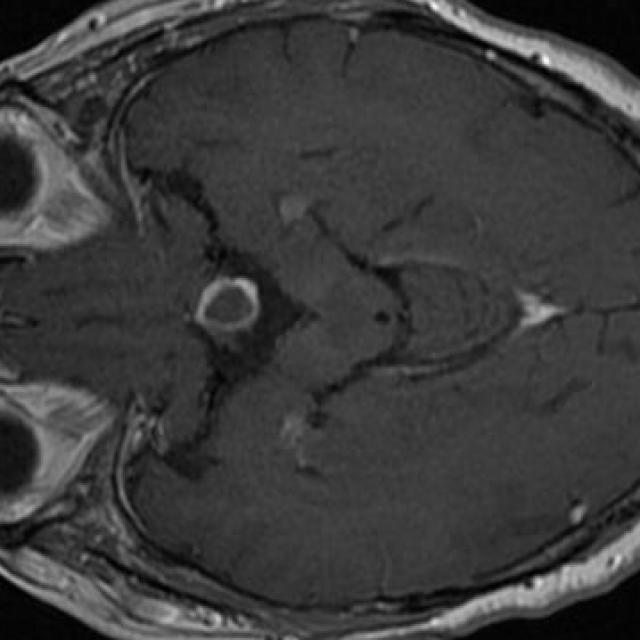pituitary: (196, 278, 260, 333)
